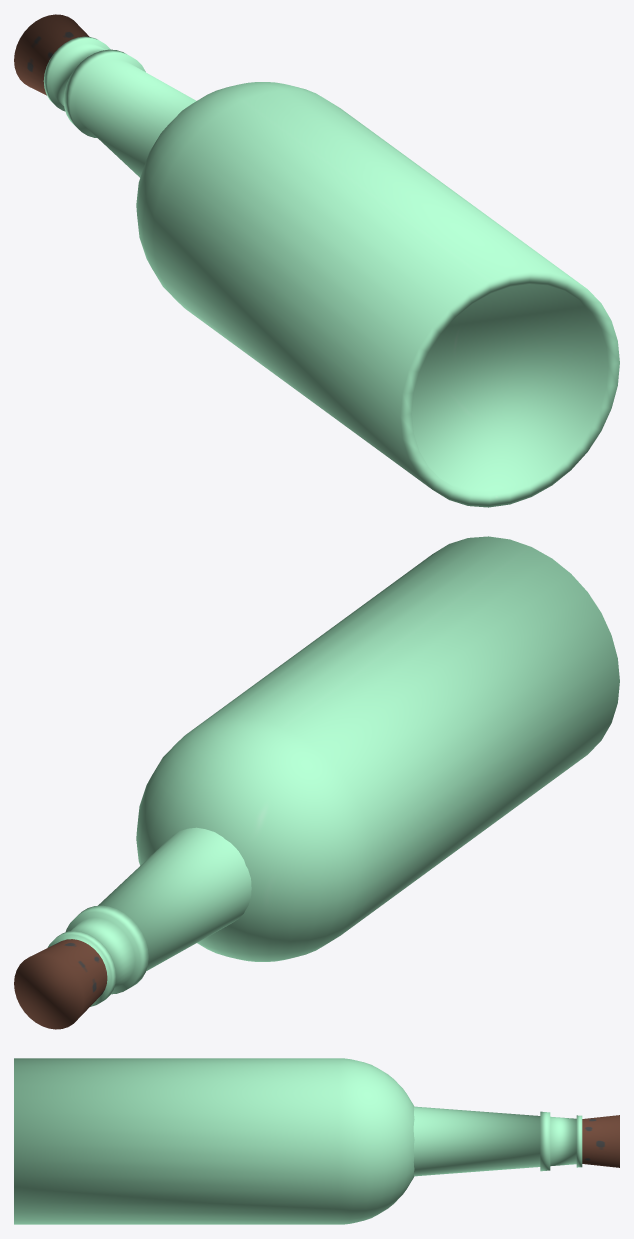
Rendered from Bottiglia.fbx.
The picture shows the model from 3 angles, top to bottom: view 1: azimuth 30°, elevation 25°; view 2: azimuth 150°, elevation 25°; view 3: azimuth 270°, elevation 25°; orthographic projection. The views are drawn at different scales.
Parts seen in each view (by area): view 1: Bottiglia, Collo Bottiglia; view 2: Bottiglia, Collo Bottiglia; view 3: Bottiglia, Collo Bottiglia.
Boxes of the visible parts, x1,y1,x2,y2 form: Bottiglia: (136, 82, 619, 507); Collo Bottiglia: (14, 14, 196, 177); Bottiglia: (136, 536, 619, 961); Collo Bottiglia: (14, 827, 251, 1029); Bottiglia: (14, 1058, 414, 1224); Collo Bottiglia: (413, 1106, 619, 1176).
Size of the model in its own units: 200 by 200 by 727.
